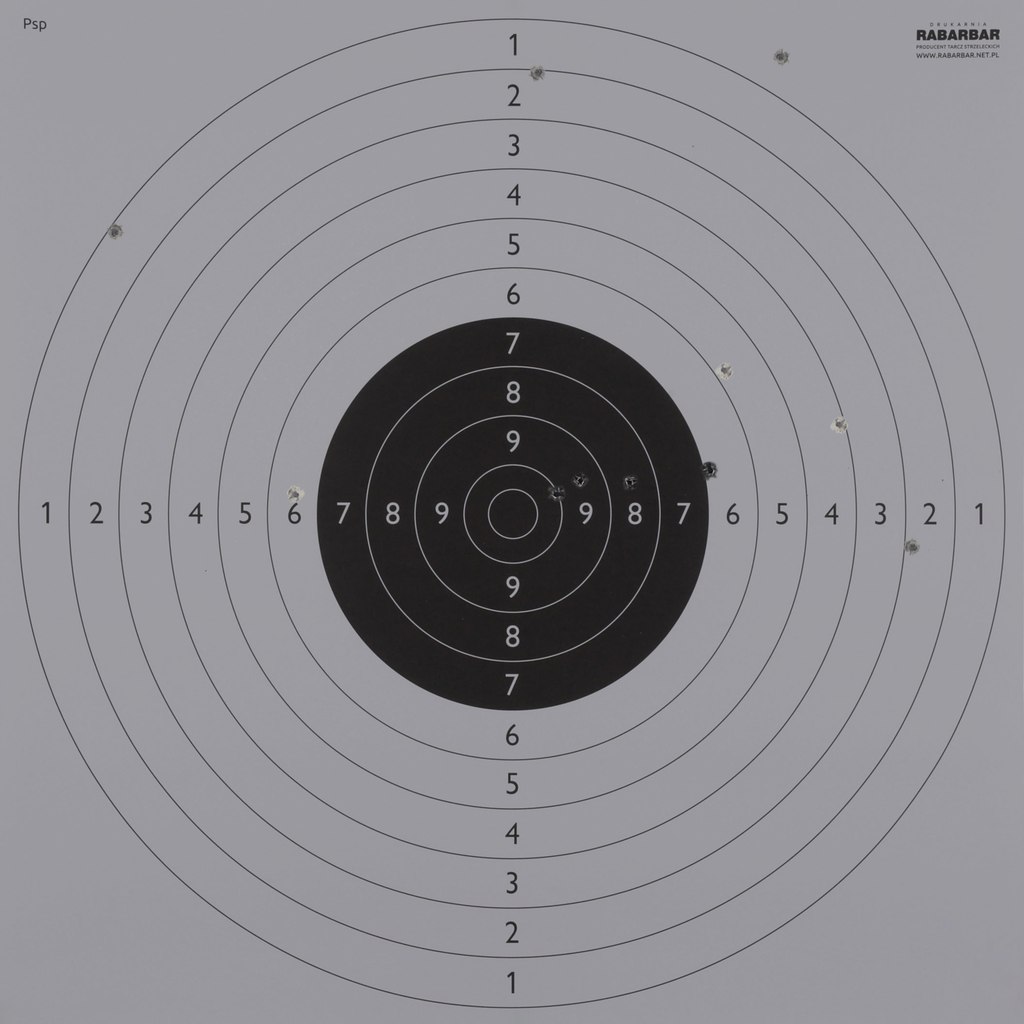0 punktow: (771, 48, 790, 66)
1 punkt: (106, 223, 124, 241)
10 punktow: (547, 485, 566, 503)
2 punkty: (529, 64, 547, 82)
3 punkty: (903, 538, 922, 557)
4 punkty: (830, 415, 849, 434)
5 punktow: (715, 361, 734, 380)
6 punktow: (286, 486, 305, 504)
7 punktow: (701, 461, 719, 480)
8 punktow: (620, 473, 639, 491)
9 punktow: (571, 472, 590, 490)
